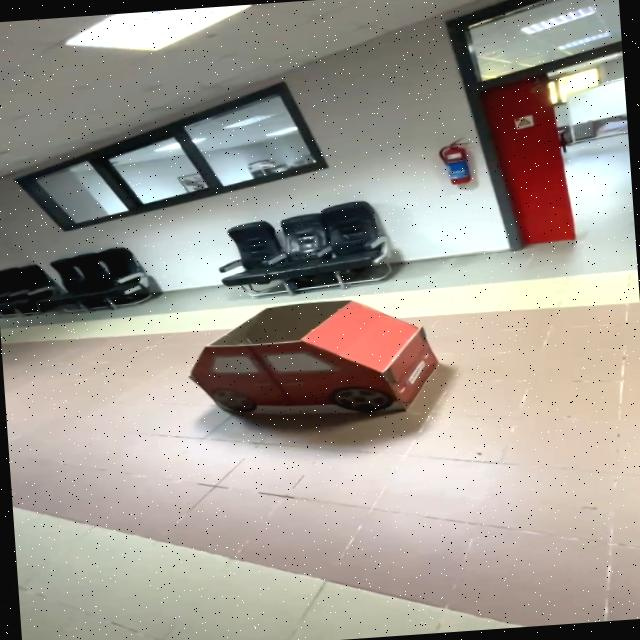red_car: (173, 283, 465, 448)
